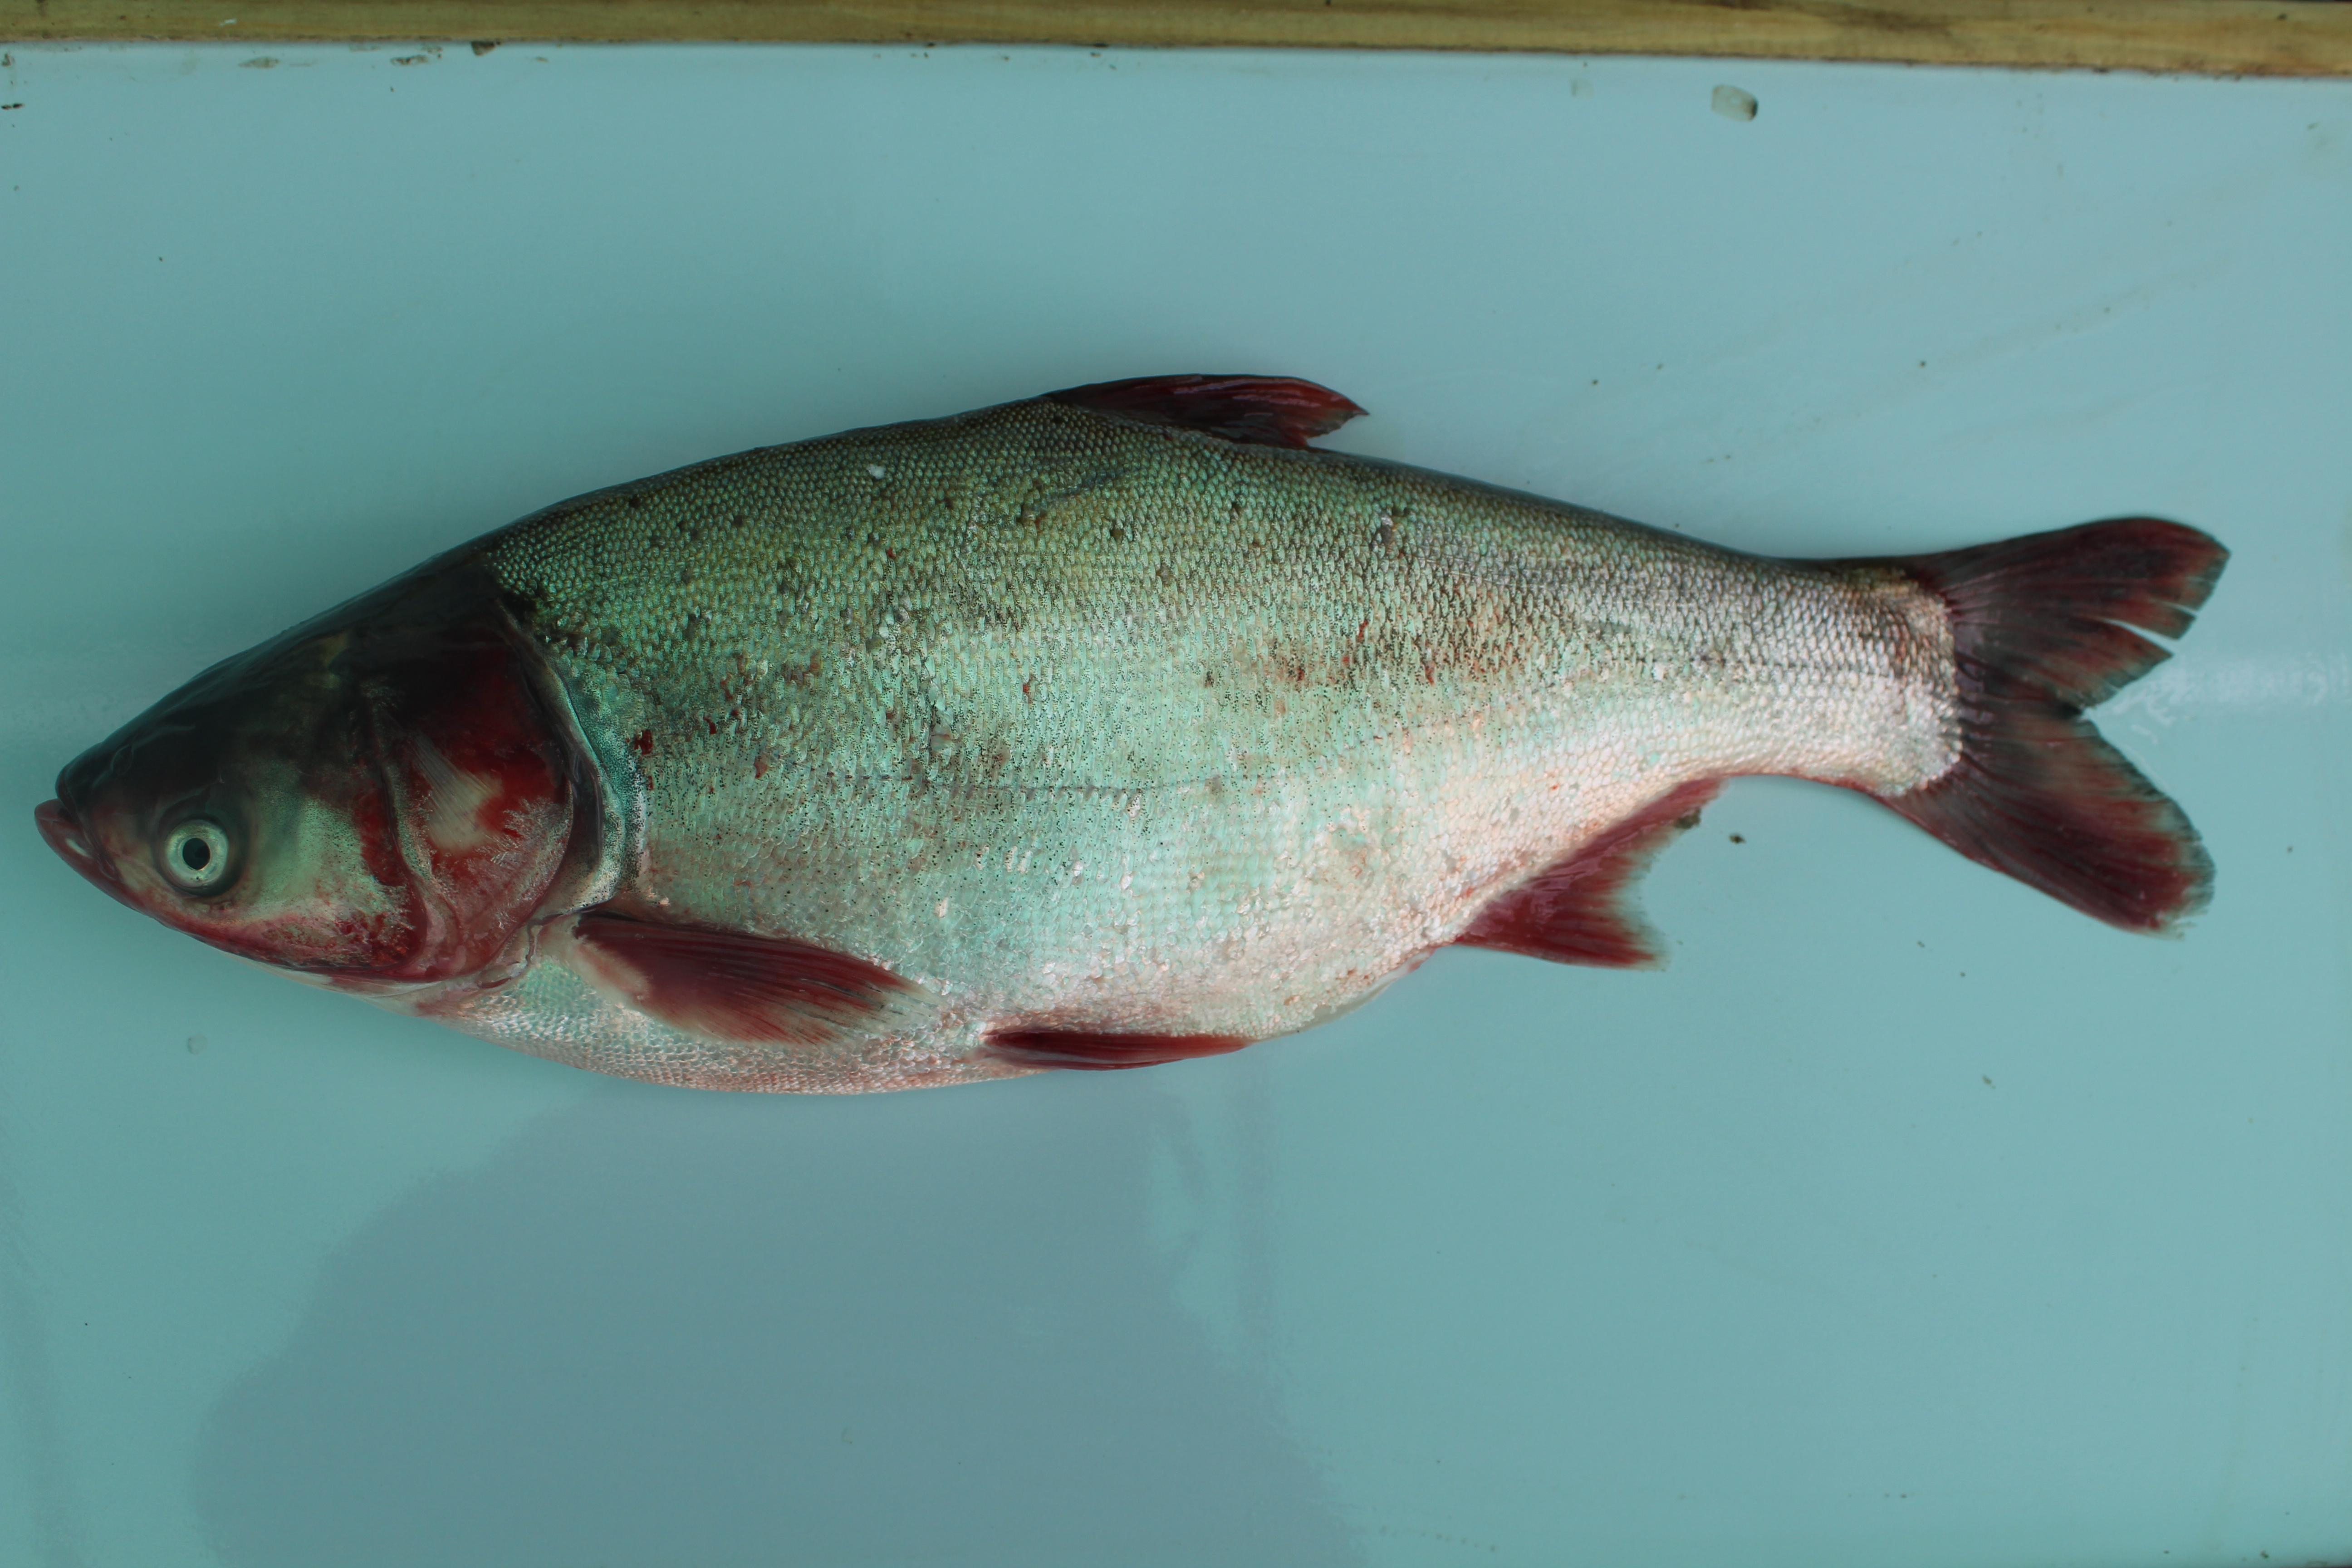Silver Carp: (40, 360, 2252, 1117)
